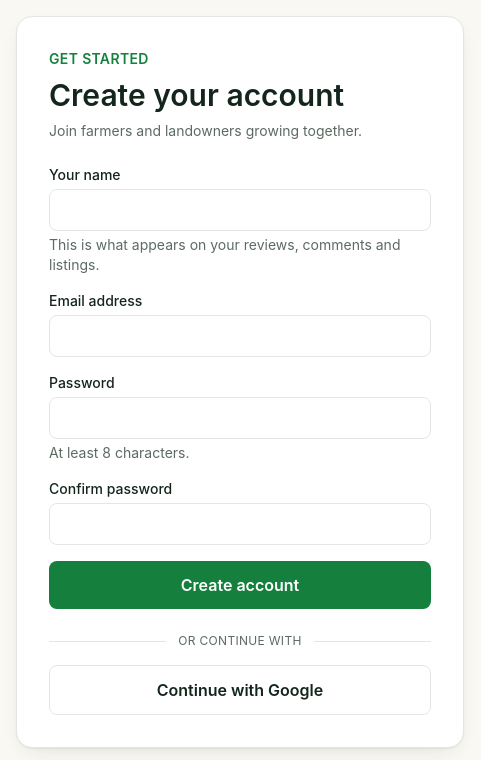
Test: Register › validates email format before signing up
Step 1. Type "Amina Farmer" into the field labelled "Your name" → [240, 210], box [49,189,431,231]
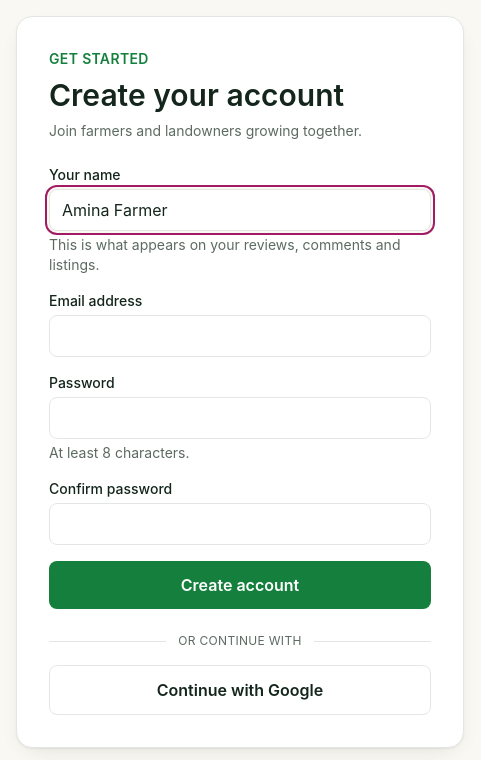
Step 2. Type "not-an-email" into the field labelled "Email address" → [240, 336], box [49,315,431,357]
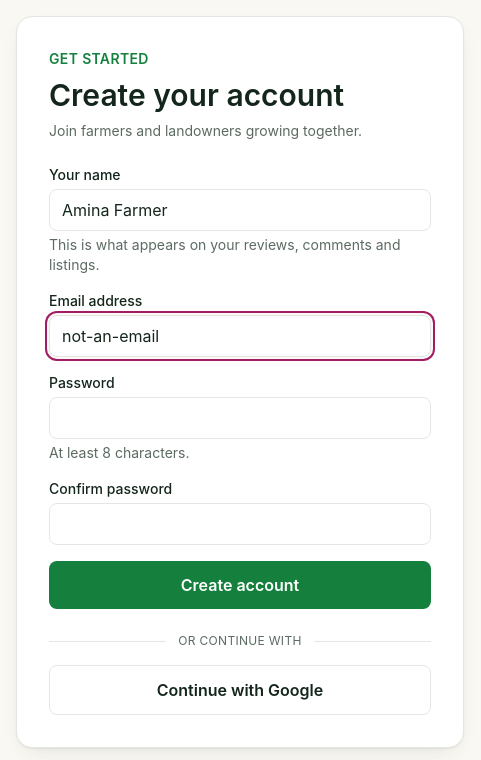
Step 3. Type "secure-pass" into the password field labelled "Password" → [240, 418], box [49,397,431,439]
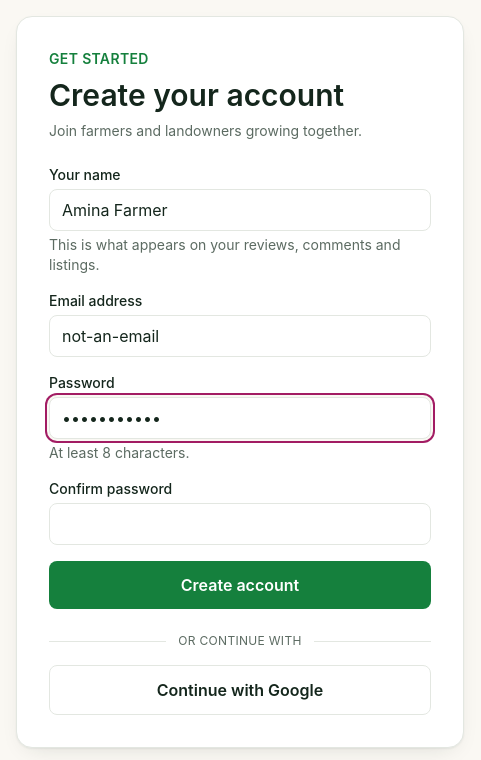
Step 4. Type "secure-pass" into the password field labelled "Confirm password" → [240, 524], box [49,503,431,545]
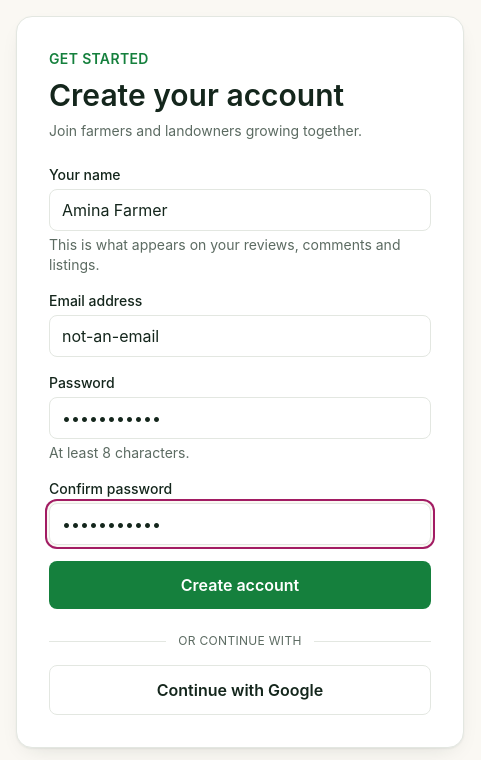
Step 5. Click the button "Create account" → [240, 585], box [49,561,431,609]
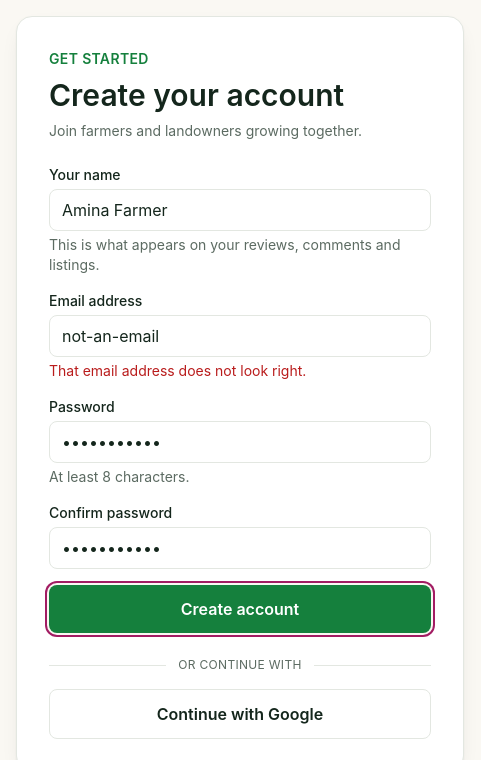
Result: the text "That email address does not look right." is shown at [49,362,306,379]
